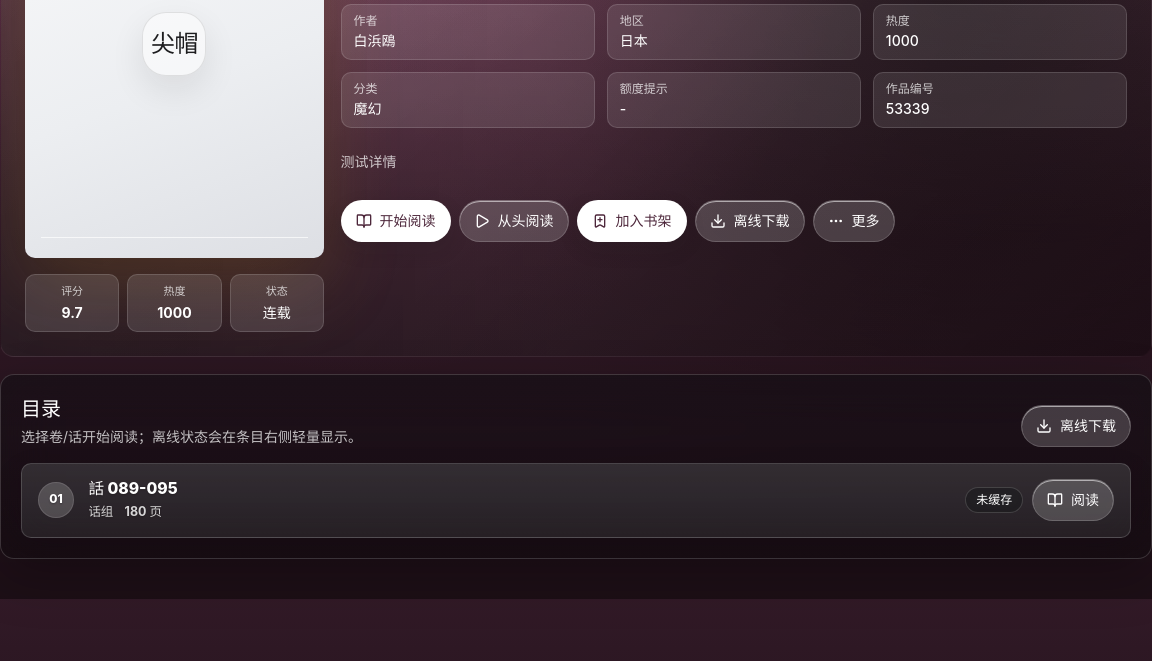
Test: Detail reader entry › shows the task failure reason when automatic reader download fails
(page scrolled)
Click the button named "获取 EPUB" at (1073, 500), box [1032,479,1114,521]
(page scrolled)
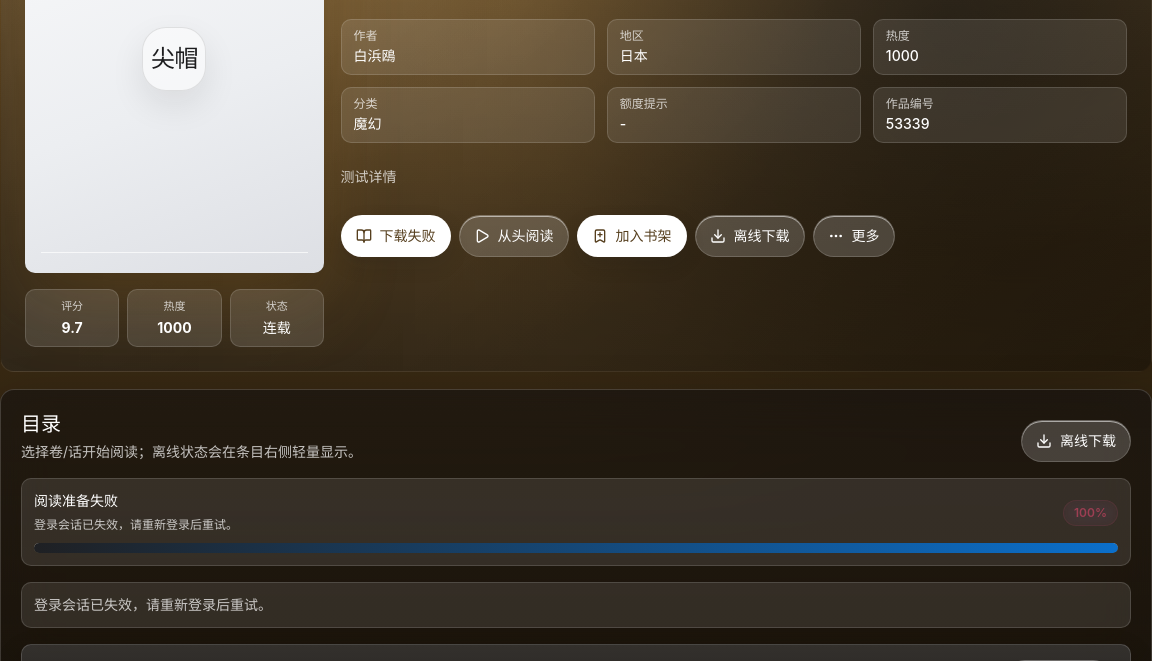
Now the text "登录会话已失效，请重新登录后重试。" below "阅读准备失败" is shown, box [34,517,238,532]
